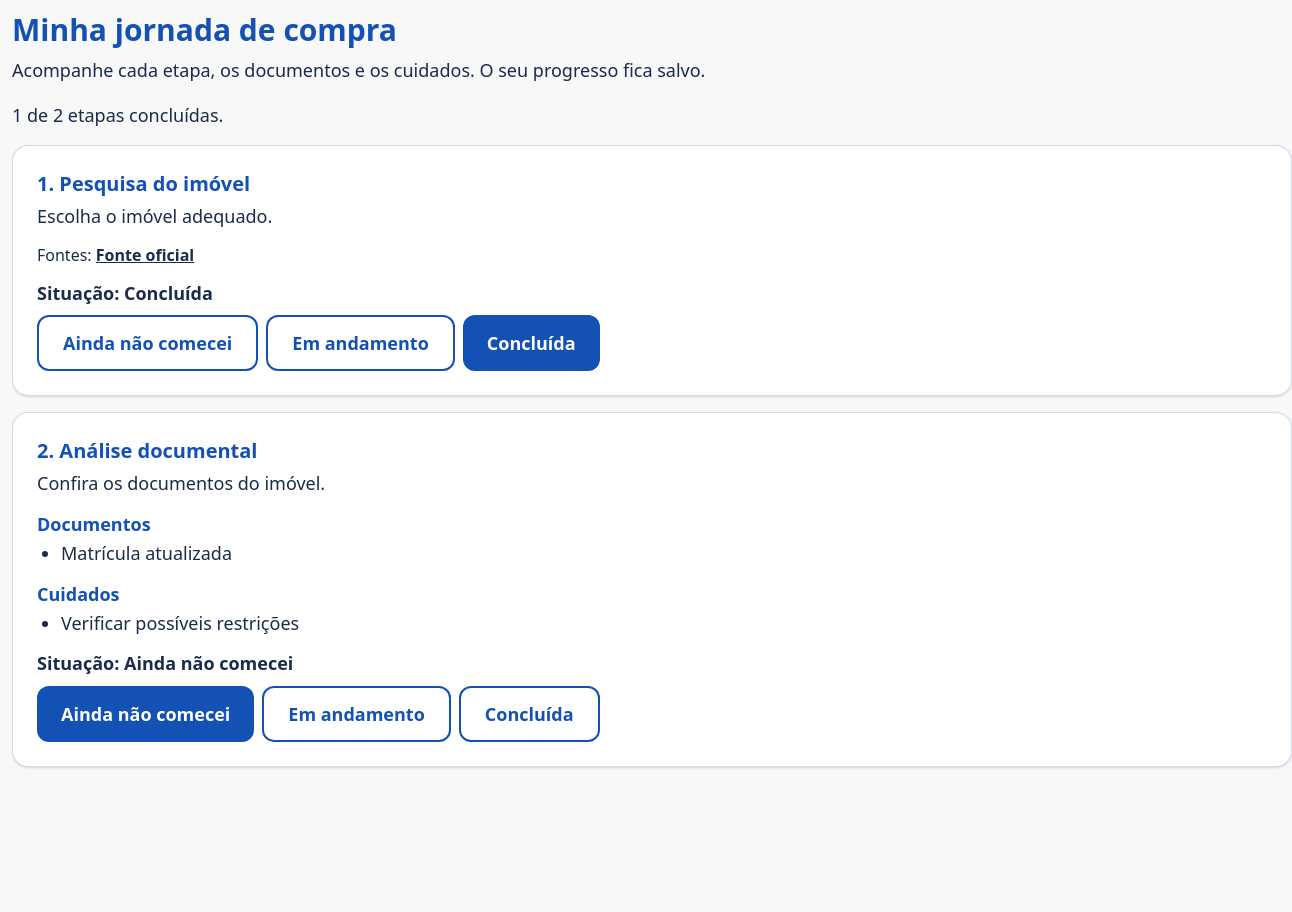
Test case: Jornada › salva a alteracao do progresso na API
Expected: the list item "2. Análise documental" is shown, [12,412,1291,767]
Click the button "Concluída" below "Verificar possíveis restrições" at (529, 714), box [459,686,600,742]
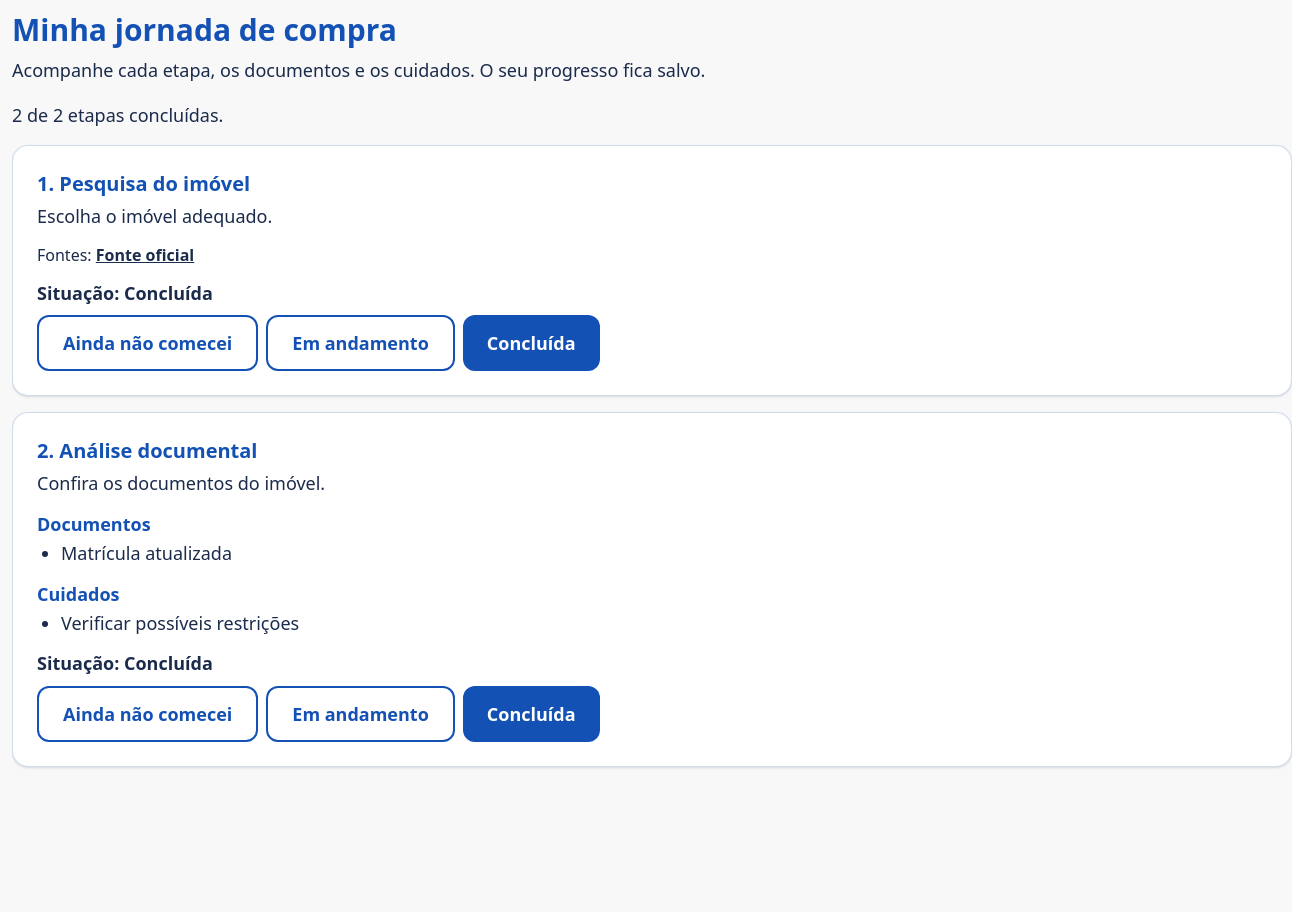
Now the text "2 de 2 etapas concluídas." is shown, box [12,103,223,127]
